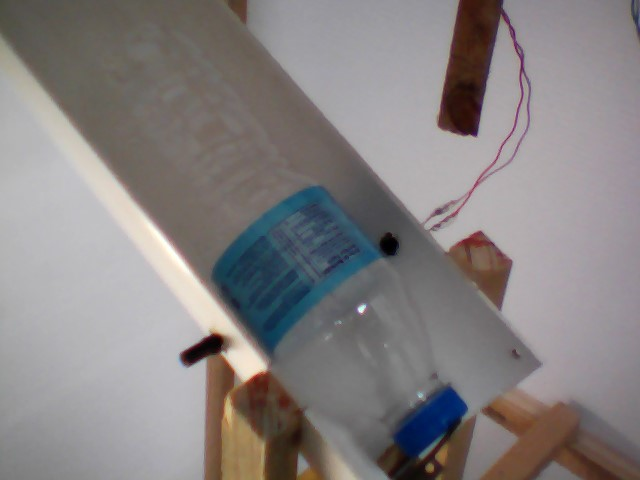plastico: (62, 16, 472, 463)
